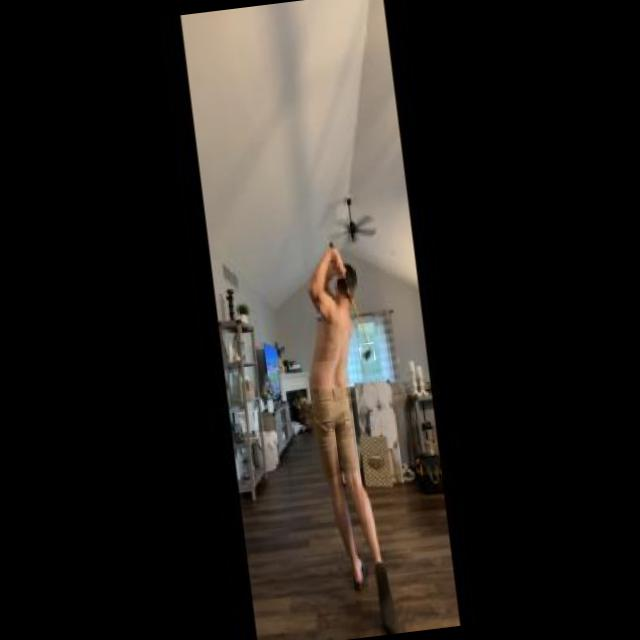club head: (359, 342, 376, 364)
